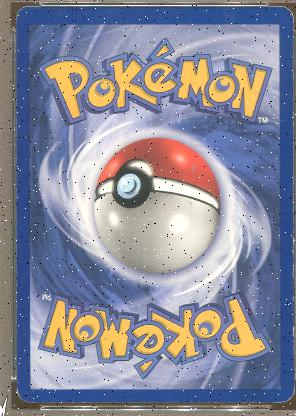Card: (13, 2, 293, 406)
Corner Wear: (269, 386, 294, 404), (16, 386, 38, 404)
Edge Wear: (41, 401, 118, 403), (290, 216, 292, 260), (291, 324, 293, 358), (195, 401, 228, 403), (240, 400, 269, 402), (291, 264, 292, 312), (290, 110, 292, 128)
Scratch: (33, 78, 36, 82), (23, 136, 27, 138)
